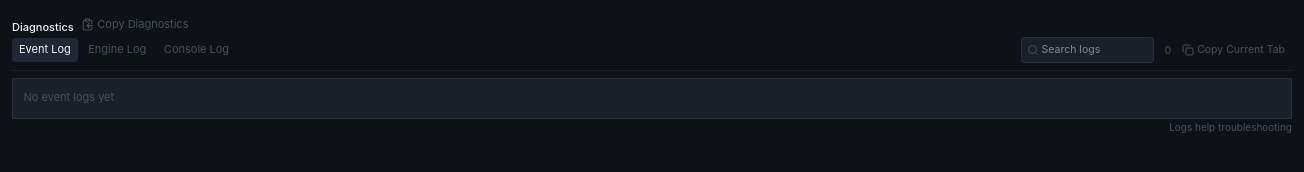
Test: DiagnosticsModal 组件 › 切到控制台标签页 → readRendererLog(500) 拉取并渲染
Click the button with class "diag-tab" showing "Console Log" at (196, 50), box [157, 38, 236, 62]
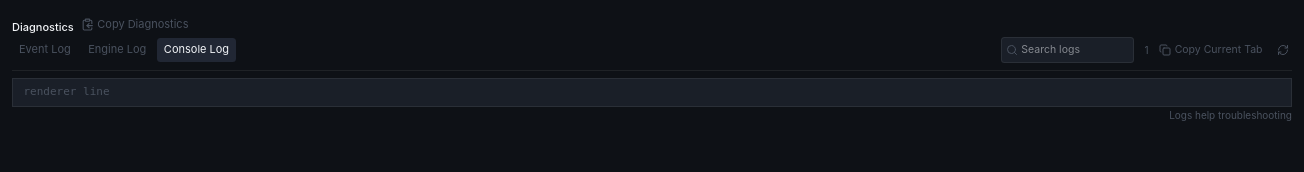
Result: the text "renderer line" is shown at [24, 85, 110, 98]
